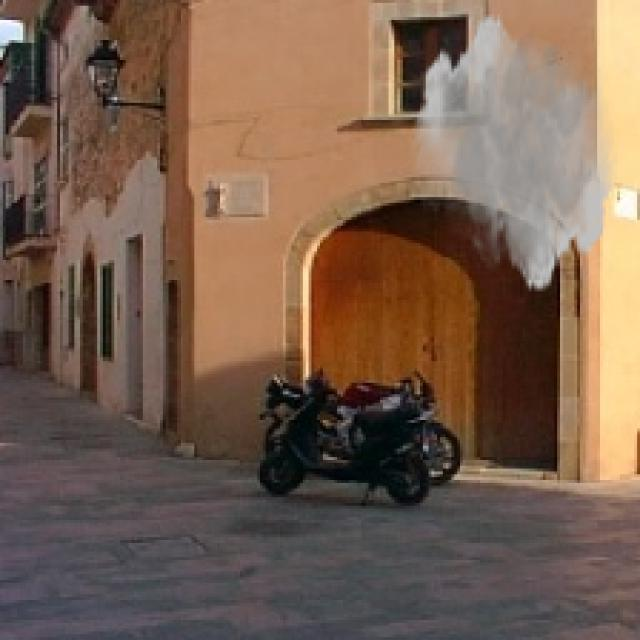smoke: (412, 12, 617, 294)
